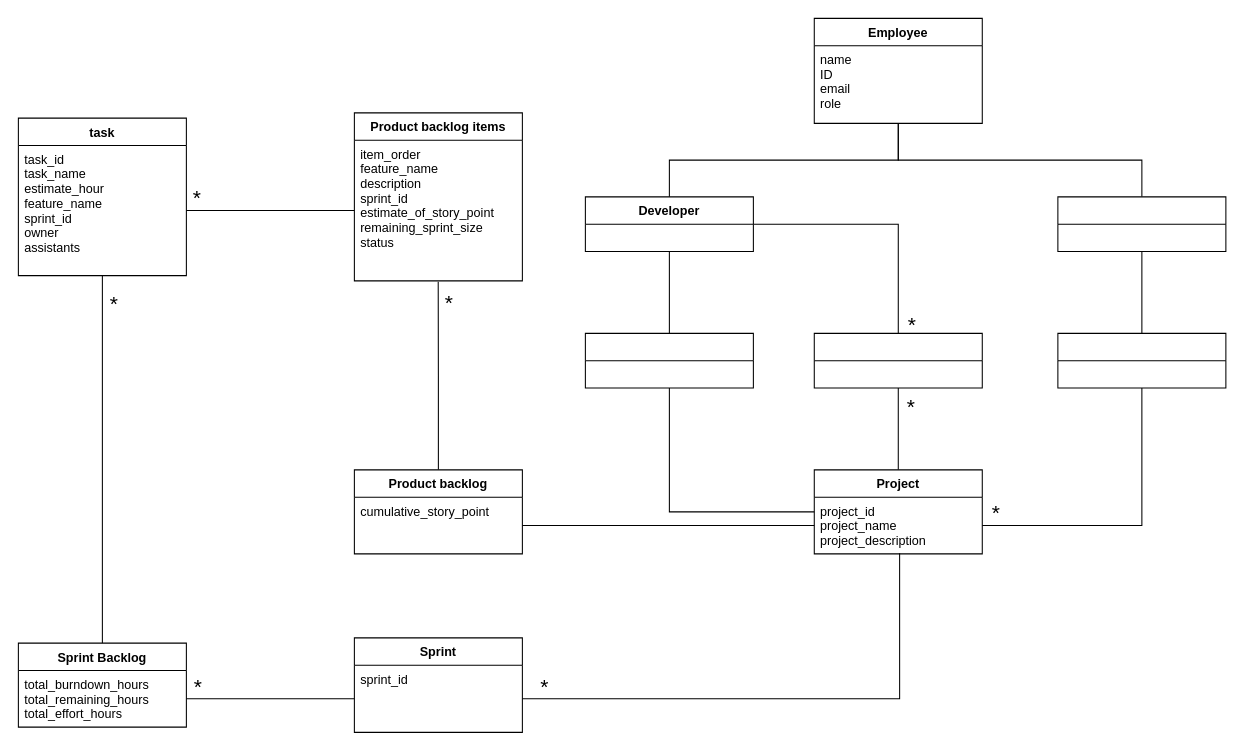
This 1244x754 diagram has some shape labels left out. Each missing label, with the centre of its shape:
Development Team: the point at 897,360
Manager: the point at 1141,223
Product Owner: the point at 668,360
Scrum Master: the point at 1141,360
